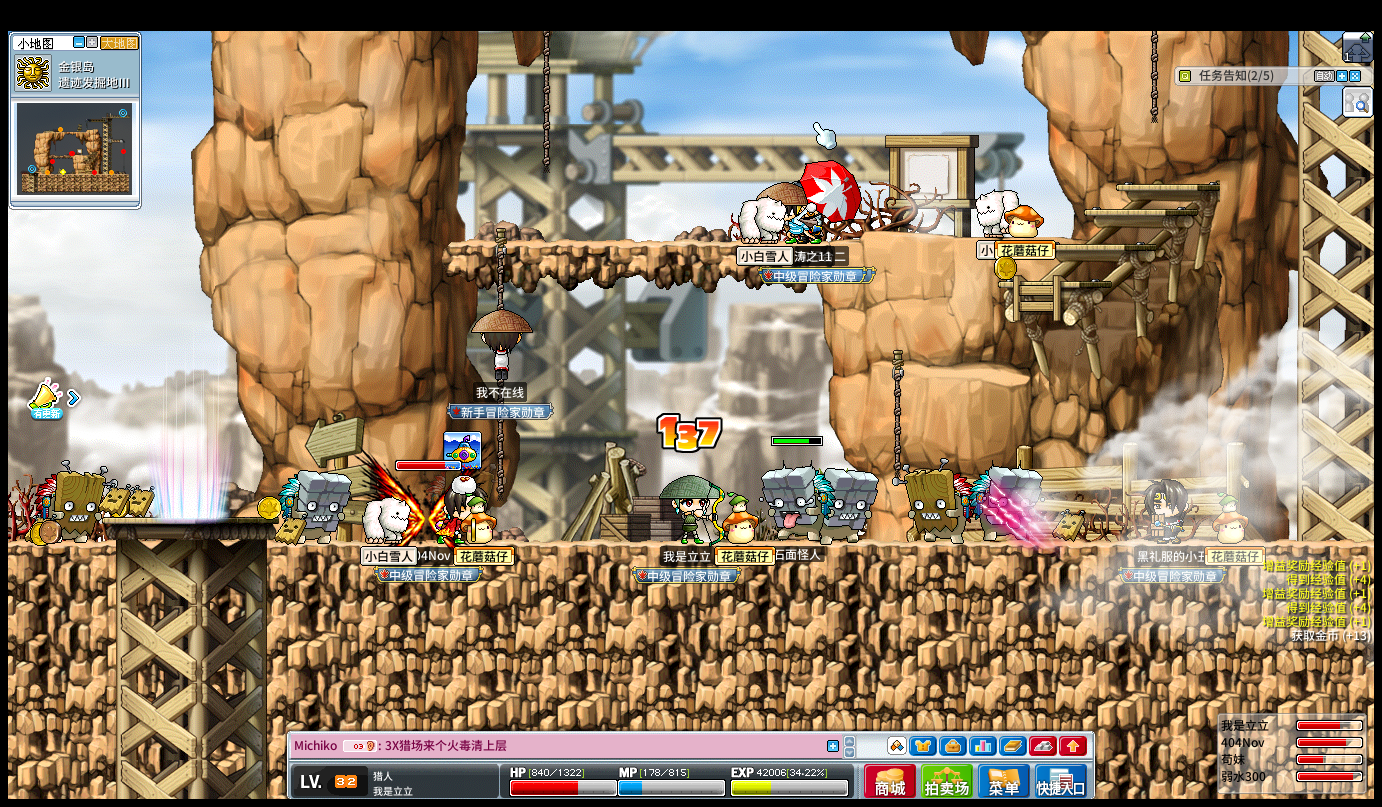floor: (445, 238, 820, 248), (923, 364, 1030, 384), (103, 516, 277, 525), (994, 279, 1109, 291), (935, 232, 1081, 241), (1081, 205, 1196, 215), (7, 541, 113, 551), (995, 279, 1109, 287), (1078, 207, 1191, 215), (1048, 243, 1155, 251), (1115, 184, 1218, 191)
monster: (37, 464, 112, 542), (900, 463, 972, 542), (761, 465, 832, 541), (971, 466, 1040, 541), (279, 470, 349, 543), (825, 469, 879, 544)
rope: (889, 350, 903, 481), (542, 29, 550, 175), (493, 227, 506, 310), (495, 418, 505, 503), (1148, 29, 1156, 120)
